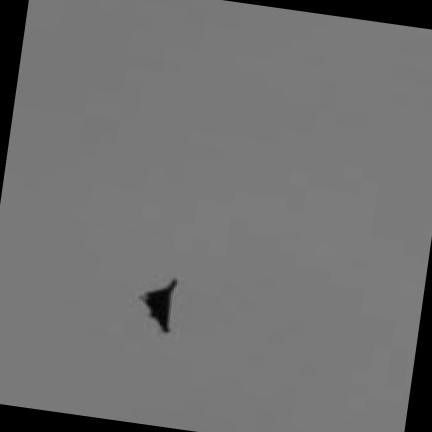Shahed: (140, 280, 177, 334)
